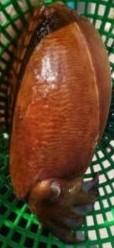Cephalopod: (7, 2, 112, 243)
